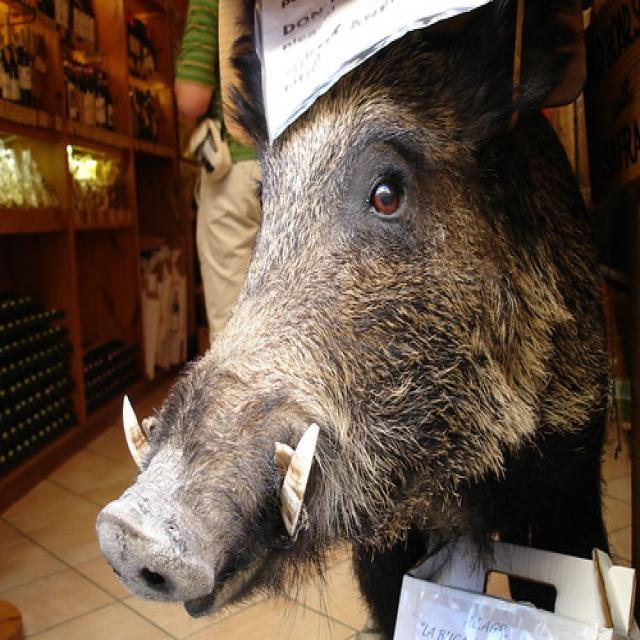boar: (86, 6, 617, 640)
